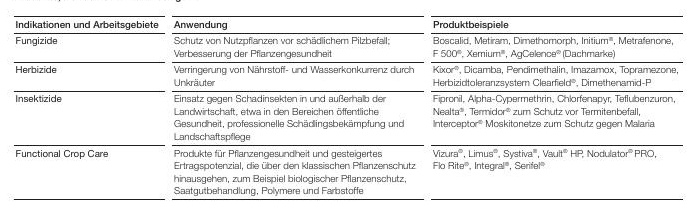table: (0, 0, 694, 211)
